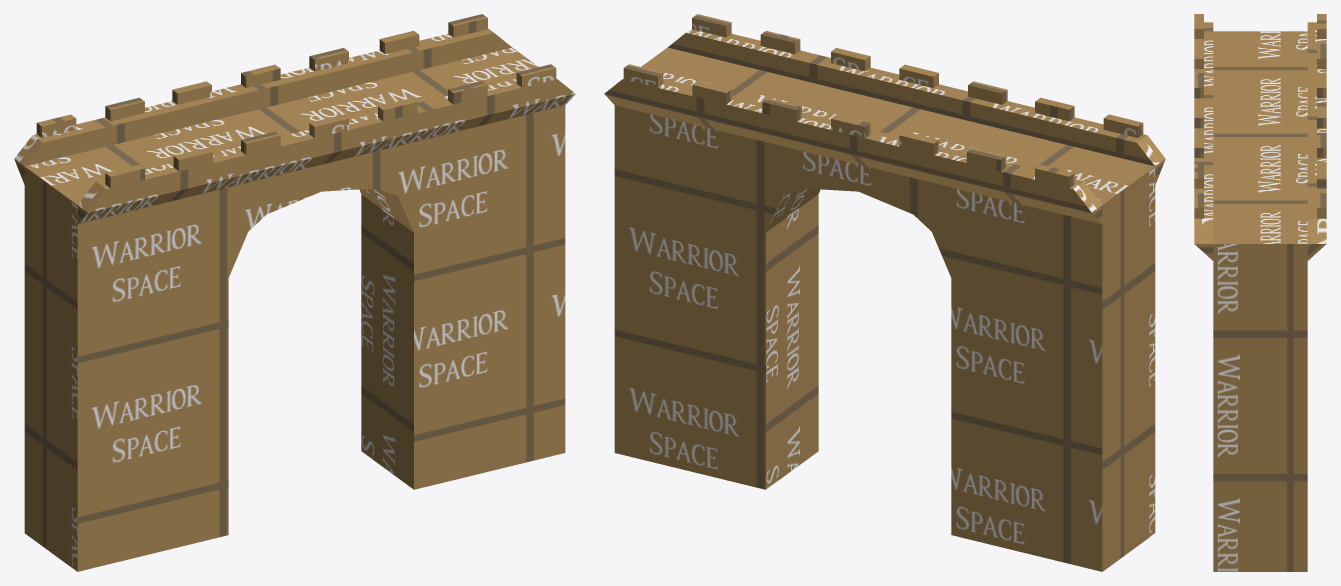
Rendered from CastleBridge.fbx.
3 views of the same model, side by side, from view 1: azimuth 30°, elevation 25°; view 2: azimuth 150°, elevation 25°; view 3: azimuth 270°, elevation 25° (orthographic). The views are drawn at different scales.
Parts seen in each view (by area): view 1: CastleBridge; view 2: CastleBridge; view 3: CastleBridge.
Boxes of the visible parts, box(x1,y1,x2,y2) form: CastleBridge: box(14, 14, 575, 571); CastleBridge: box(604, 14, 1165, 571); CastleBridge: box(1194, 14, 1326, 571).
Size of the model in its own units: 16 by 12.46 by 4.2.
